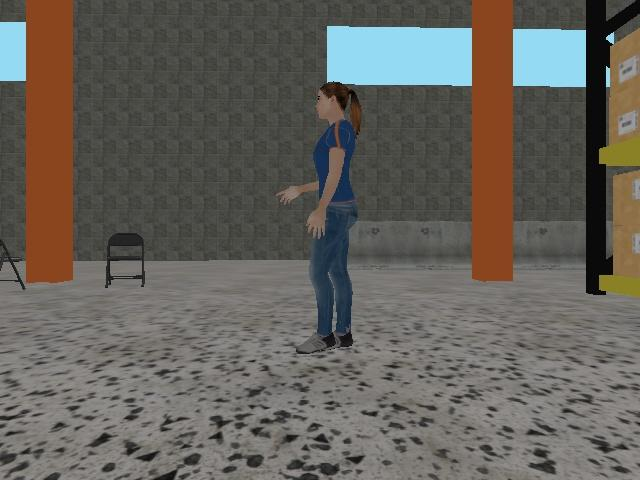chair: (104, 230, 148, 289)
person: (274, 80, 364, 356)
